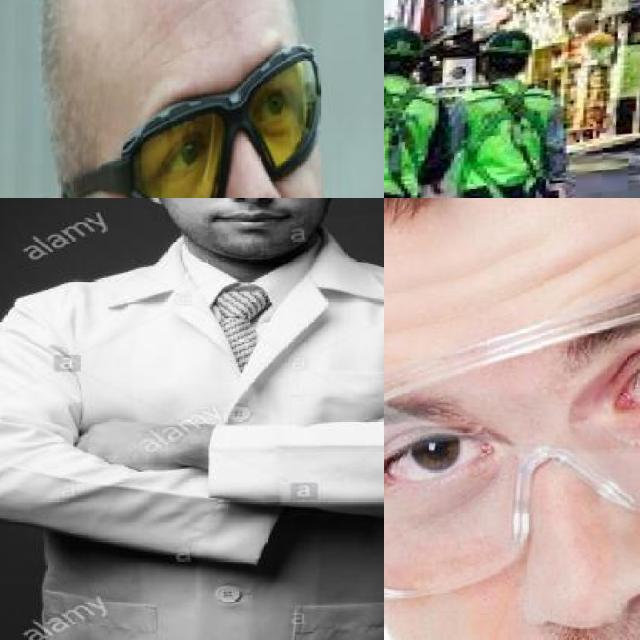Harness: (459, 81, 559, 198), (384, 78, 422, 182)
face_nomask: (384, 318, 640, 640), (125, 41, 340, 198), (182, 198, 311, 249)
glasses: (384, 198, 640, 609), (113, 40, 324, 198)
person: (0, 198, 384, 640)
